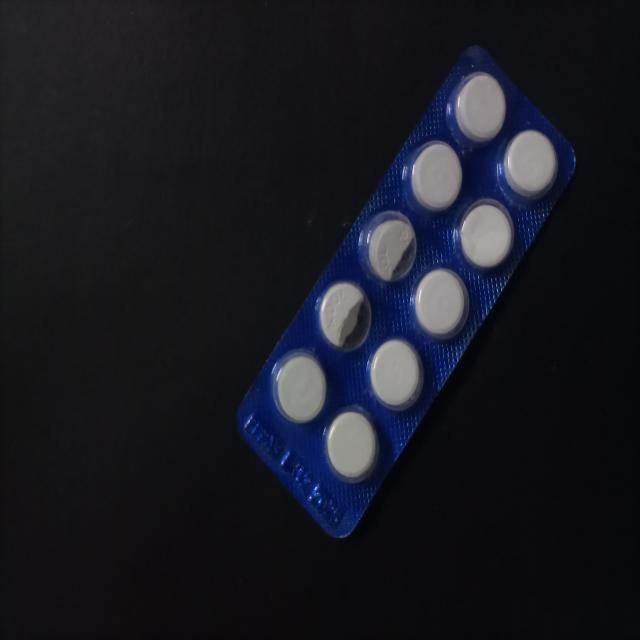defect: (314, 280, 373, 356), (361, 208, 418, 286)
